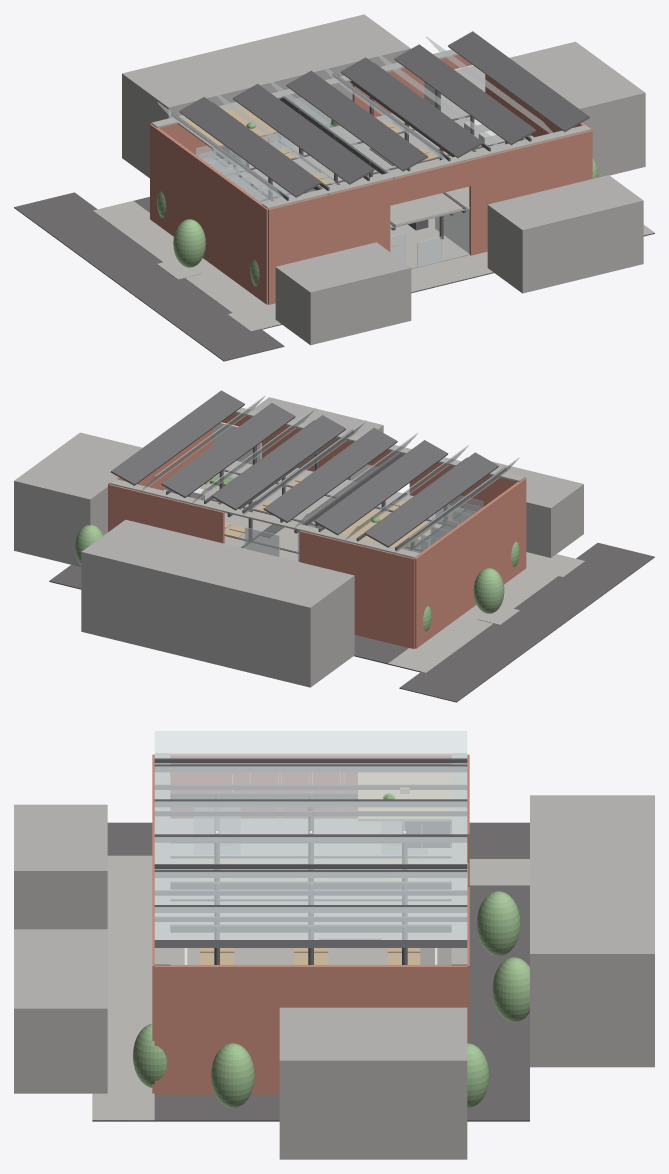
The picture shows the model from 3 angles, top to bottom: view 1: azimuth 30°, elevation 25°; view 2: azimuth 150°, elevation 25°; view 3: azimuth 270°, elevation 25°; orthographic projection. The views are drawn at different scales.
Parts seen in each view (by area): view 1: Site_Neighbor_N_Gallery, Site_Neighbor_S_Studio, Site_Street_W, Site_Neighbor_S_Cafe, Site_Neighbor_E_Warehouse, Wall_Existing_S_W, Wall_Existing_S_E, Wall_Existing_W_S, Slab_New_F2_Topping, Site_Sidewalk_W, Roof_Existing_Sawtooth_Solid_3, Roof_Existing_Sawtooth_Solid_5 (+30 smaller); view 2: Site_Neighbor_N_Gallery, Site_Street_W, Site_Neighbor_E_Warehouse, Wall_Existing_N_W, Site_Neighbor_S_Cafe, Wall_Existing_W_N, Site_Sidewalk_W, Slab_New_F2_Topping, Wall_Existing_N_E, Roof_Existing_Sawtooth_Solid_3, Roof_Existing_Sawtooth_Solid_6, Roof_Existing_Sawtooth_Solid_2 (+28 smaller); view 3: Site_Neighbor_N_Gallery, Site_Neighbor_E_Warehouse, Site_Neighbor_S_Studio, Slab_New_F2_Topping, Wall_Existing_E_S, Site_Ground, Site_Neighbor_S_Cafe, Site_Sidewalk_S, Roof_Existing_Sawtooth_Glass_3, Roof_Existing_Sawtooth_Glass_2, Roof_Existing_Sawtooth_Glass_5, Roof_Existing_Sawtooth_Glass_6 (+35 smaller).
Part boxes in pixels (box(x1,y1,x2,y2)): Site_Neighbor_N_Gallery: box(122, 14, 410, 178); Site_Neighbor_S_Studio: box(487, 175, 643, 293); Site_Street_W: box(14, 192, 284, 361); Site_Neighbor_S_Cafe: box(275, 242, 411, 345); Site_Neighbor_E_Warehouse: box(509, 41, 645, 177); Wall_Existing_S_W: box(268, 180, 390, 304); Wall_Existing_S_E: box(469, 130, 591, 255); Wall_Existing_W_S: box(220, 175, 267, 304); Slab_New_F2_Topping: box(216, 105, 533, 226); Site_Sidewalk_W: box(93, 201, 280, 329); Roof_Existing_Sawtooth_Solid_3: box(286, 70, 428, 171); Roof_Existing_Sawtooth_Solid_5: box(394, 44, 536, 145); Site_Neighbor_N_Gallery: box(81, 519, 354, 687); Site_Street_W: box(399, 543, 654, 702); Site_Neighbor_E_Warehouse: box(14, 432, 142, 566); Wall_Existing_N_W: box(299, 531, 414, 648); Site_Neighbor_S_Cafe: box(492, 461, 583, 557); Wall_Existing_W_N: box(414, 526, 460, 648); Site_Sidewalk_W: box(388, 554, 579, 672); Slab_New_F2_Topping: box(164, 460, 463, 561); Wall_Existing_N_E: box(108, 484, 224, 543); Roof_Existing_Sawtooth_Solid_3: box(263, 428, 397, 522); Roof_Existing_Sawtooth_Solid_6: box(110, 390, 244, 485); Roof_Existing_Sawtooth_Solid_2: box(314, 440, 448, 535); Site_Neighbor_N_Gallery: box(530, 795, 654, 1067); Site_Neighbor_E_Warehouse: box(279, 1007, 467, 1159); Site_Neighbor_S_Studio: box(14, 929, 107, 1093); Slab_New_F2_Topping: box(170, 819, 451, 964); Wall_Existing_E_S: box(154, 965, 279, 1094); Site_Ground: box(92, 855, 529, 1121); Site_Neighbor_S_Cafe: box(14, 804, 107, 929); Site_Sidewalk_S: box(92, 855, 154, 1120); Roof_Existing_Sawtooth_Glass_3: box(154, 801, 467, 834); Roof_Existing_Sawtooth_Glass_2: box(154, 766, 467, 799); Roof_Existing_Sawtooth_Glass_5: box(154, 872, 467, 904); Roof_Existing_Sawtooth_Glass_6: box(154, 907, 467, 939).
Size of the model in its own units: 51 by 11.05 by 41.
